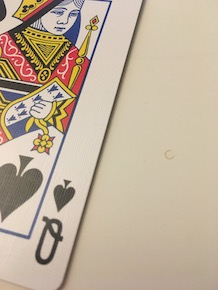QueenOfSpades: (1, 1, 145, 289)
